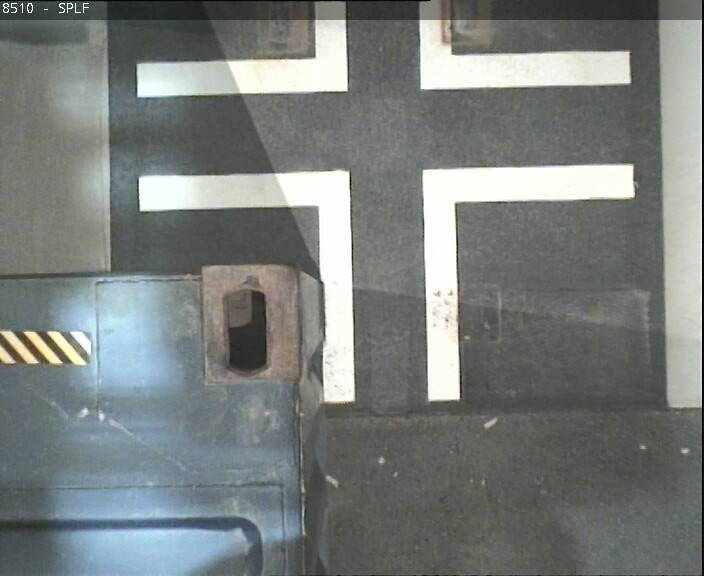groundmarker_1: (143, 162, 633, 395)
